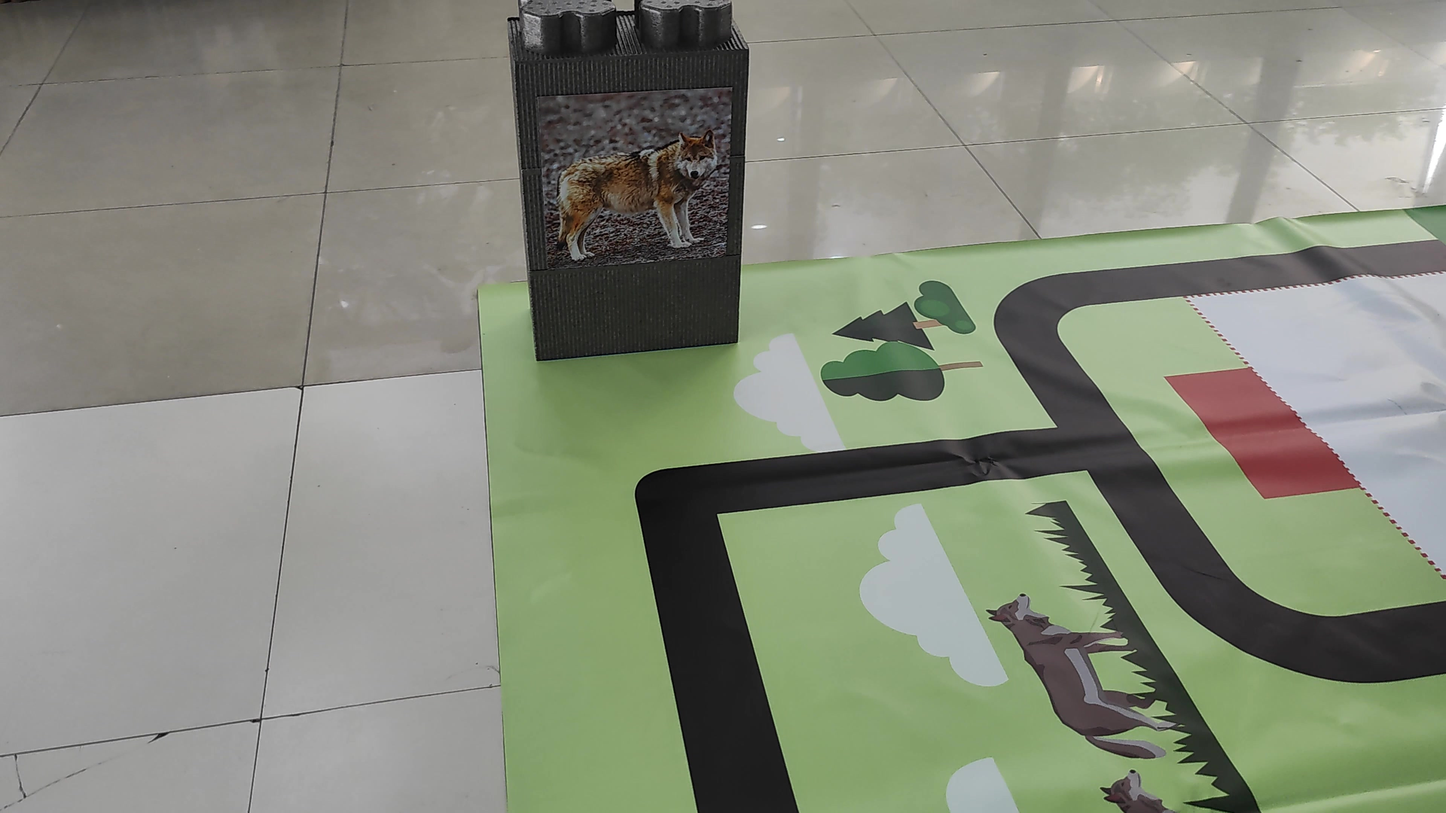wolf: (542, 109, 729, 264)
